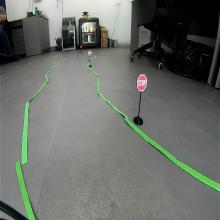stop: (136, 73, 148, 92)
